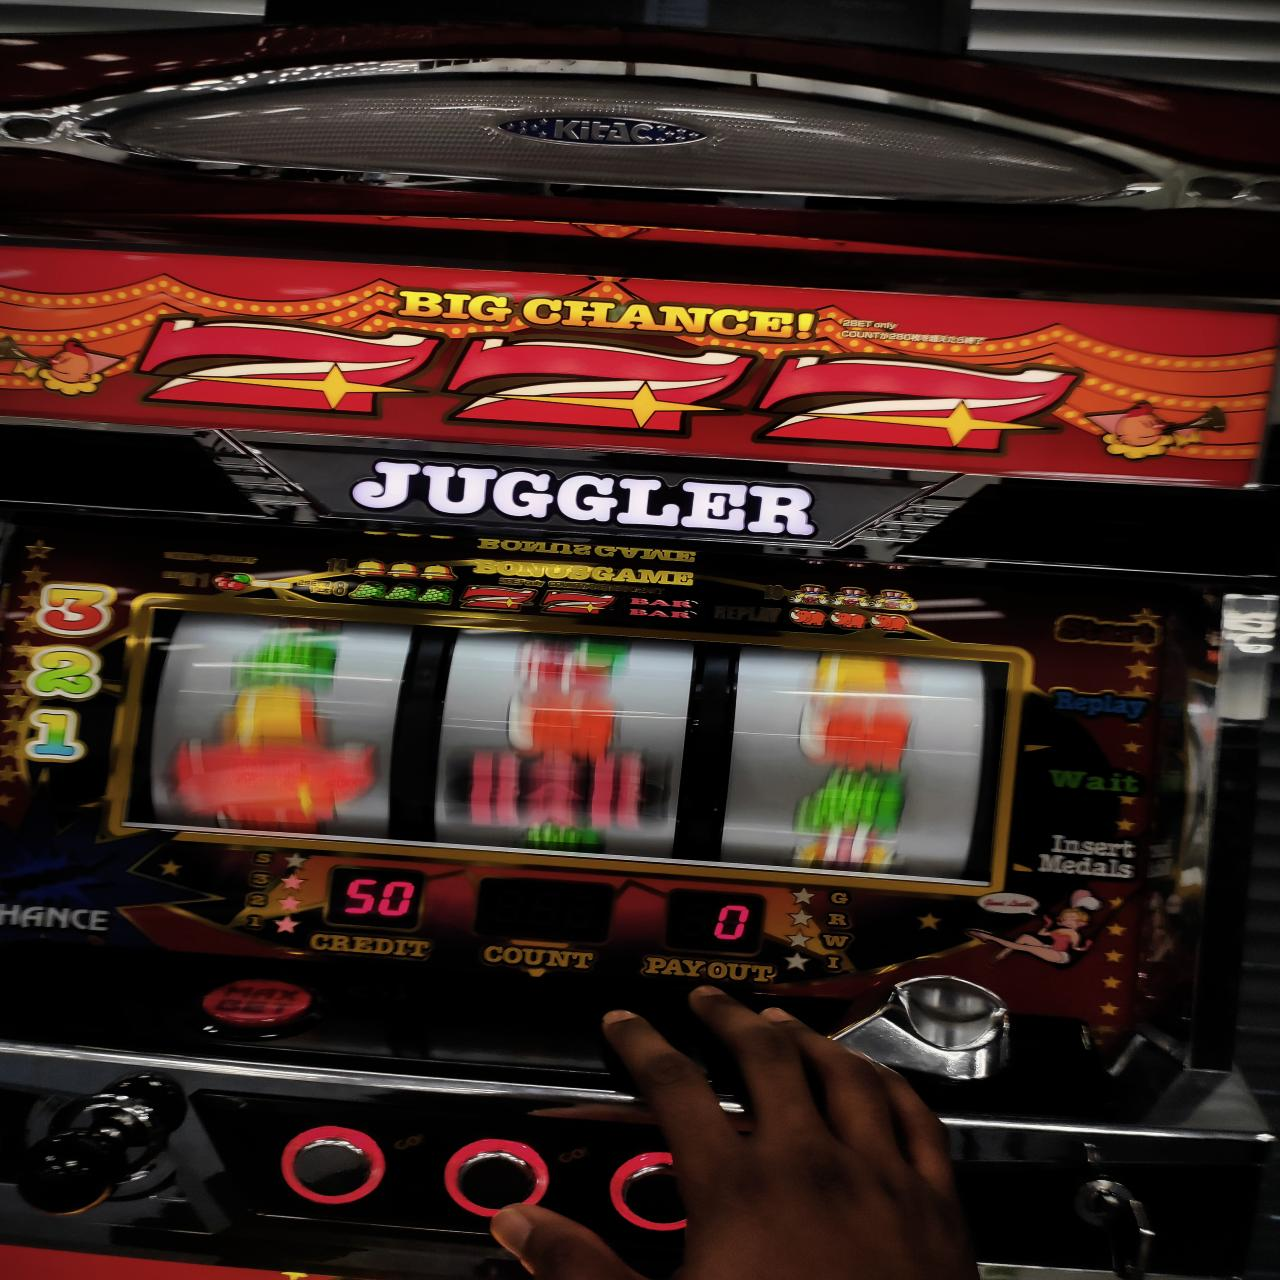rhino: (147, 605, 1003, 887)
